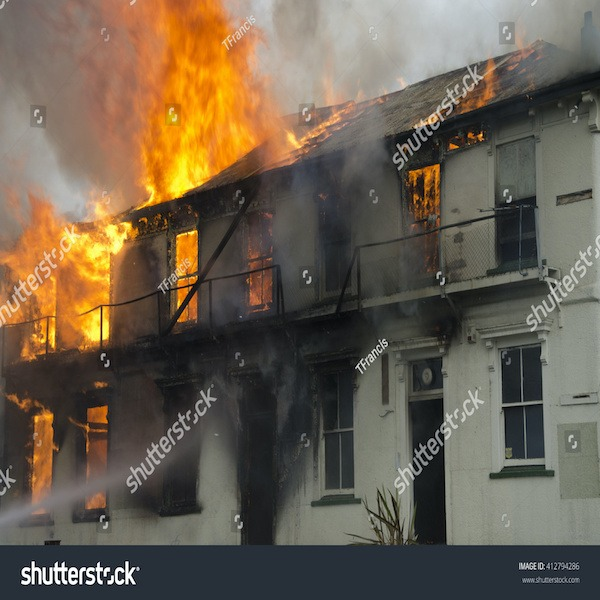fire: (119, 1, 259, 180), (7, 198, 113, 345), (25, 406, 59, 511), (271, 107, 337, 158), (84, 404, 109, 509), (177, 232, 197, 320), (408, 168, 442, 217)
